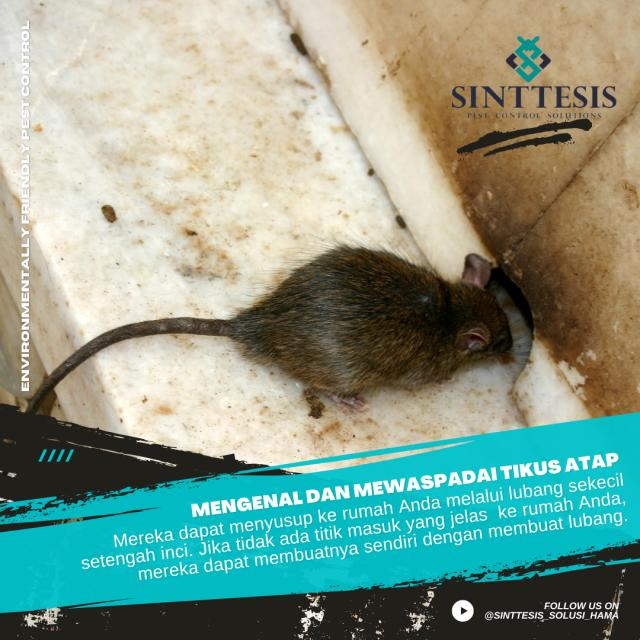rat: (234, 222, 528, 420)
